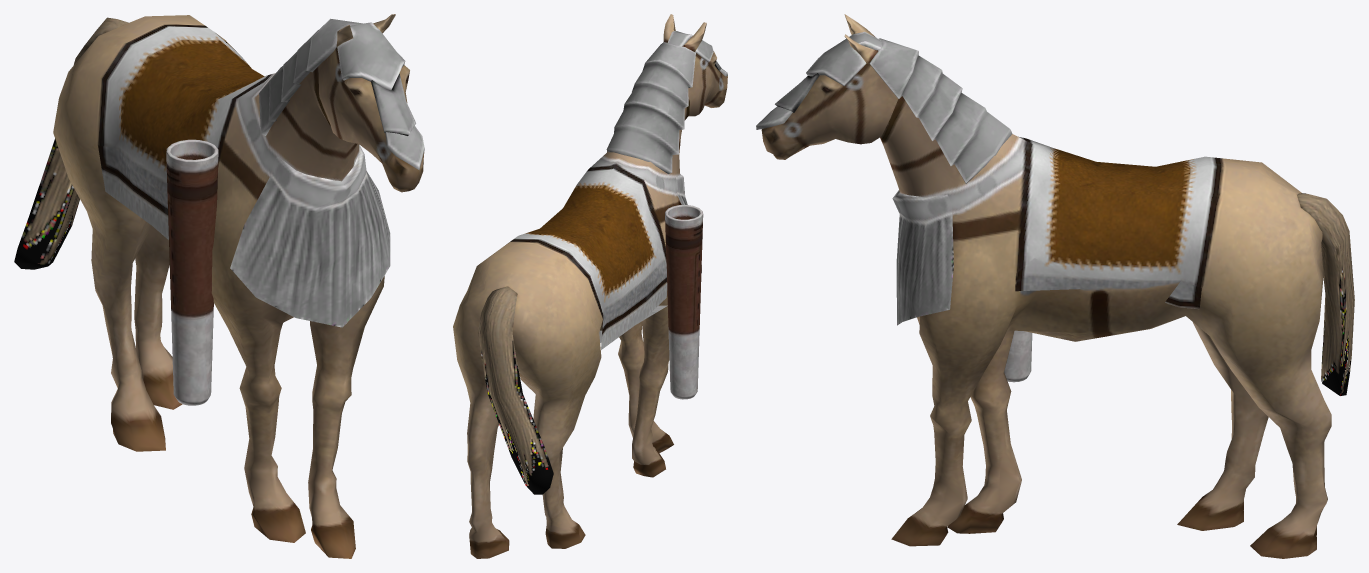
The model's file is body-heavyarchers.glb.
3 views of the same model, side by side, from view 1: azimuth 30°, elevation 25°; view 2: azimuth 150°, elevation 25°; view 3: azimuth 270°, elevation 25° (orthographic). The views are drawn at different scales.
Bounding box in the file's own units: 0.9071 × 2.49 × 2.64.
2 materials, 2 textured.
